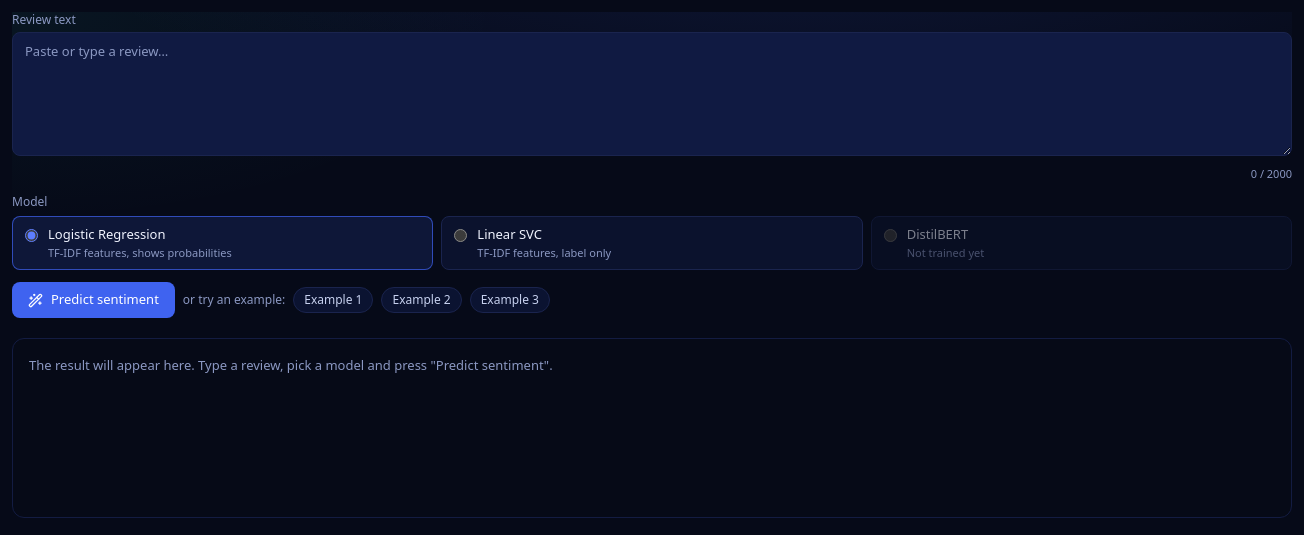
PredictForm › refuses to show a result that came from a different model than the one chosen
Type "Works great" into the text box labelled "Review text" at (652, 94), box [12,32,1292,156]
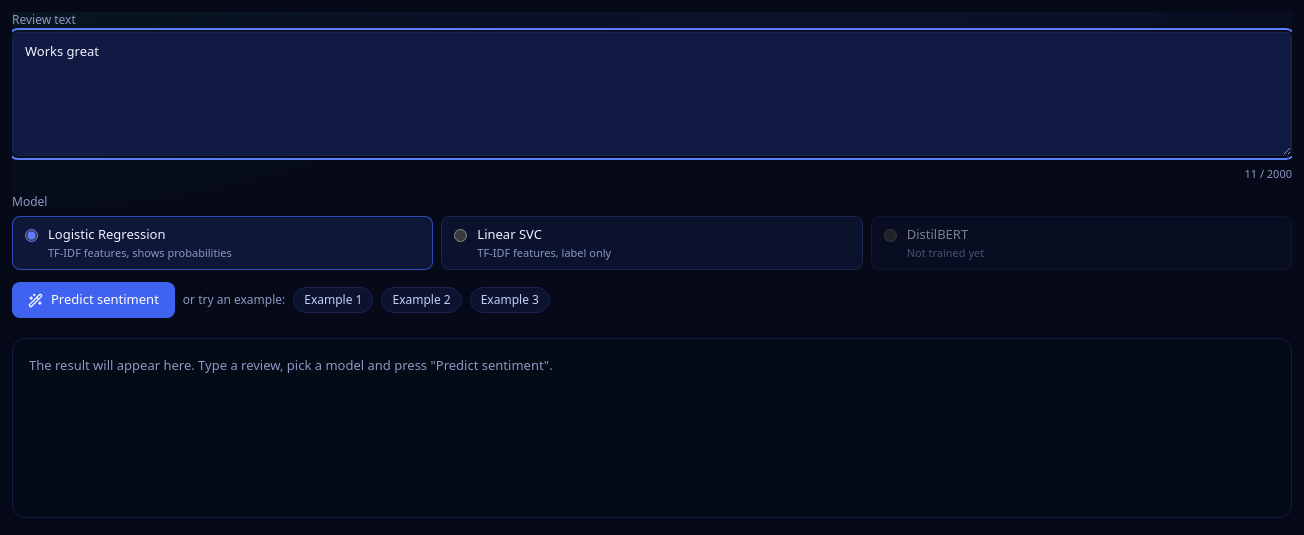
Click the radio button labelled "Linear SVC TF-IDF features, label only" at (461, 236), box [454,229,467,242]
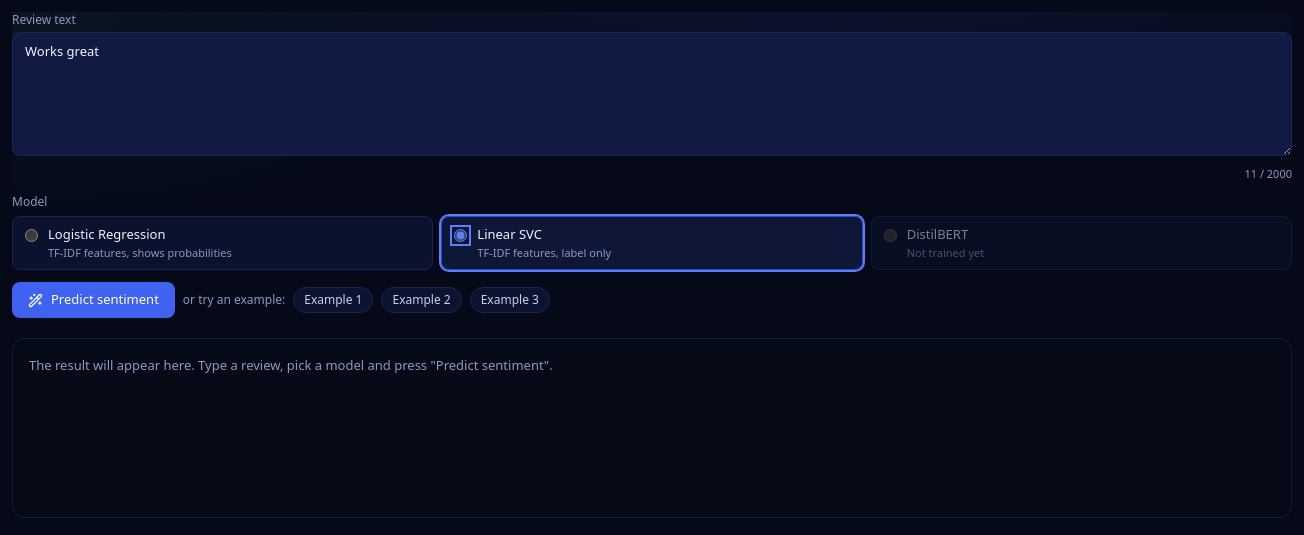
Click the button "Predict sentiment" at (93, 300), box [12,282,175,318]
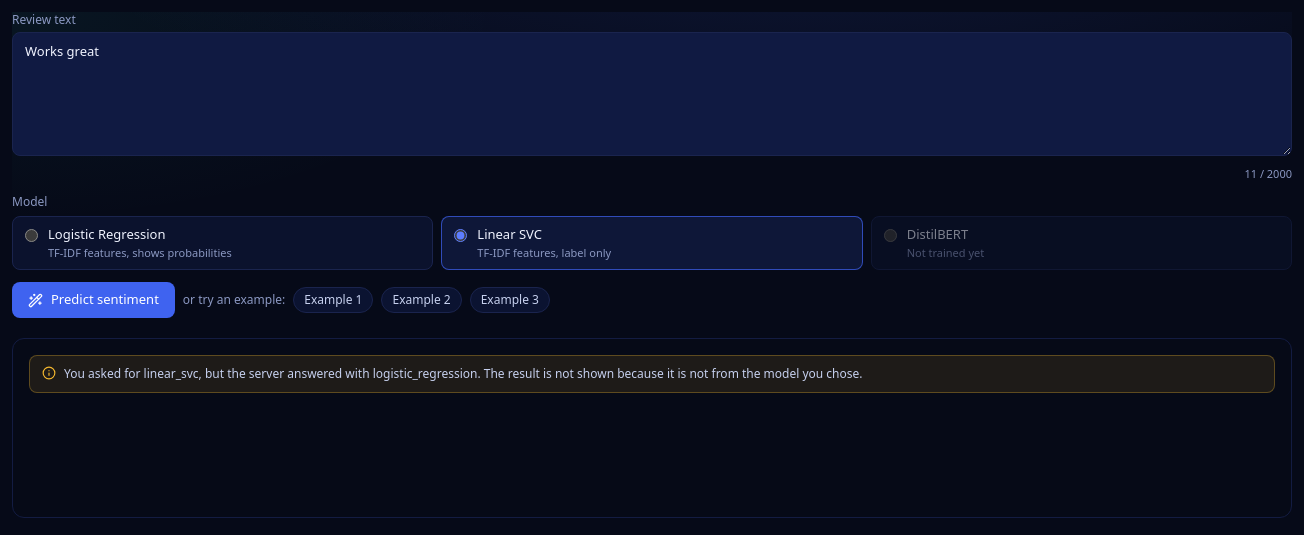
Check: the text "You asked for linear_svc, but the server answered with logistic_regression" is shown, box [64,364,862,384]
